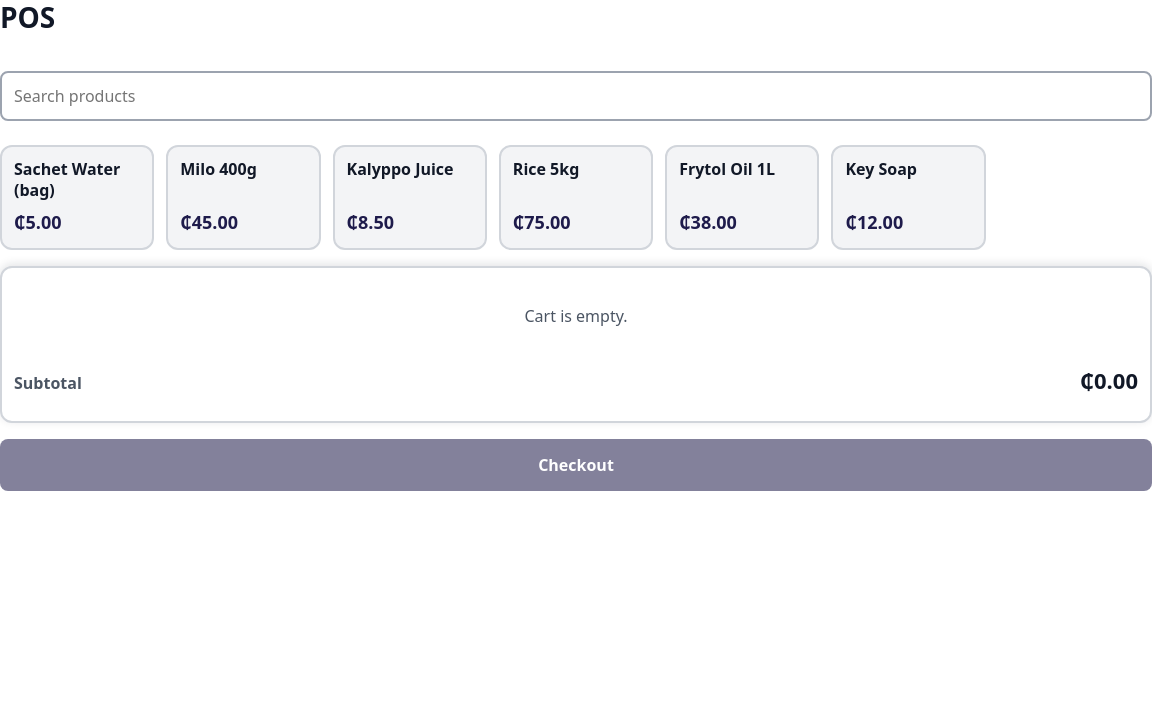
Scenario: PosScreen — double-tap protection (Adjoa QA #5) › firing two rapid confirms enqueues exactly once, not two duplicate sales
What coordinates should you click on to do the following:
click the button "Milo 400g ₵45.00"
I would click on:
 (243, 197)
Its box is [166,145,321,250].
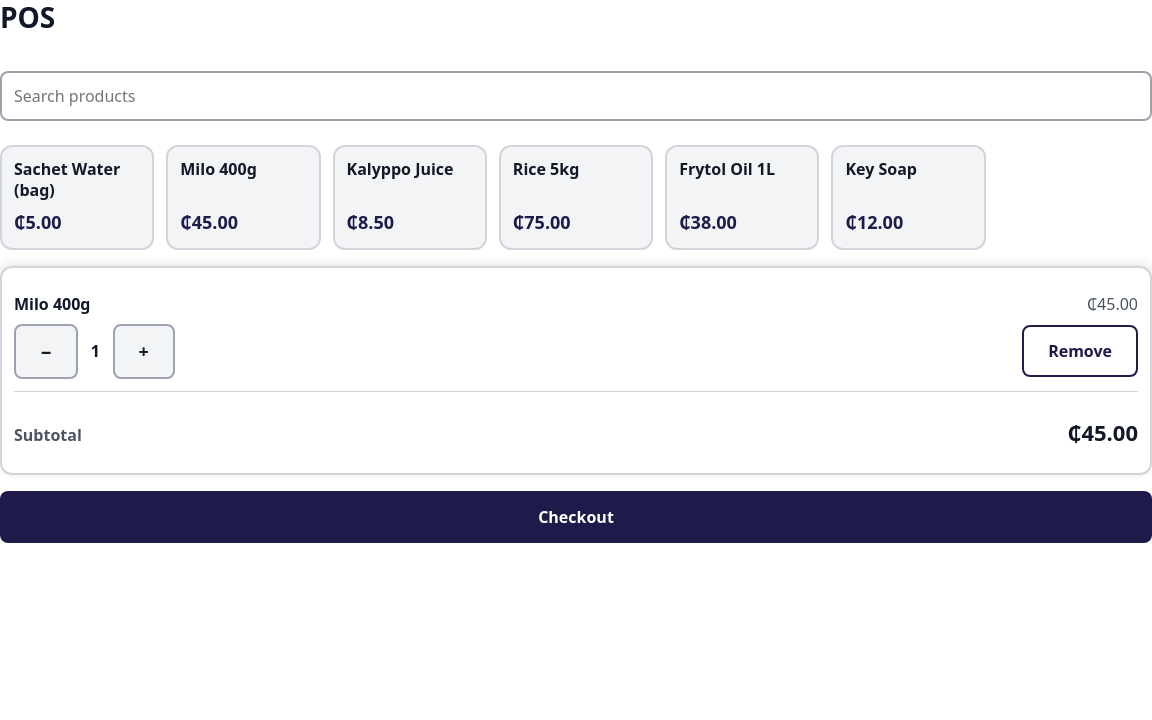
What coordinates should you click on to do the following:
click the button "Checkout"
I would click on:
 (576, 517)
Its box is [0,491,1151,543].
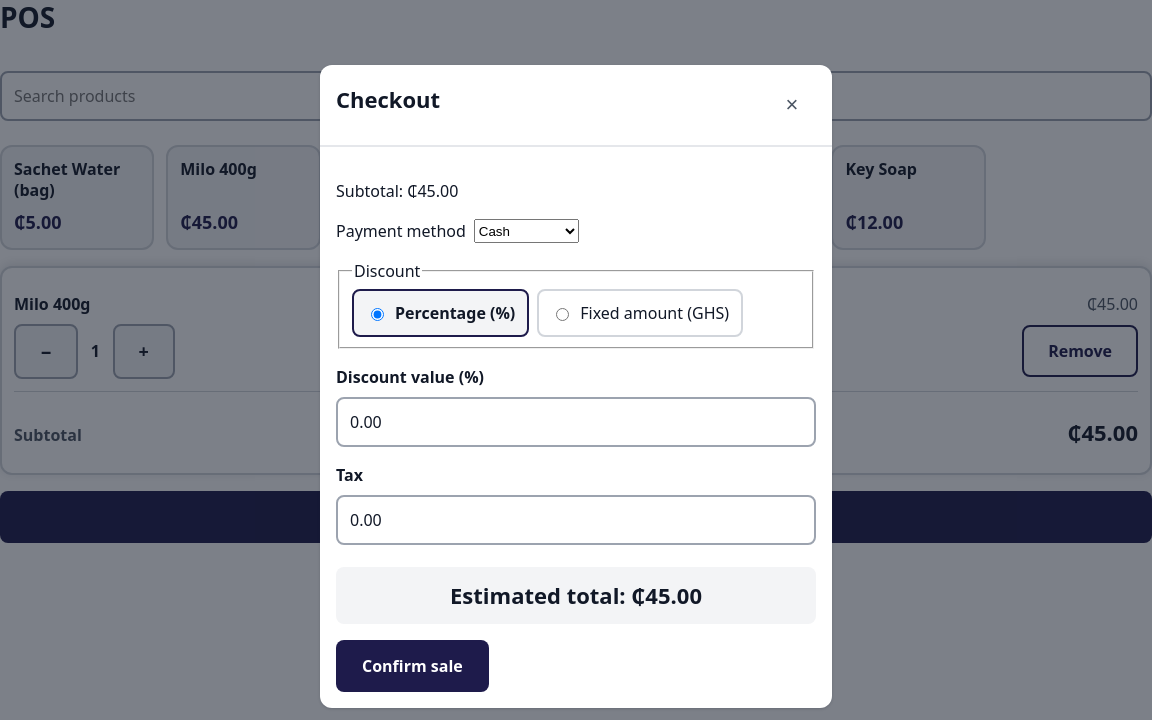
Two back-to-back taps, synchronously, with no await in between.
What coordinates should you click on to do the following:
click the button "Confirm sale"
I would click on:
 (412, 666)
Its box is [336,640,489,692].
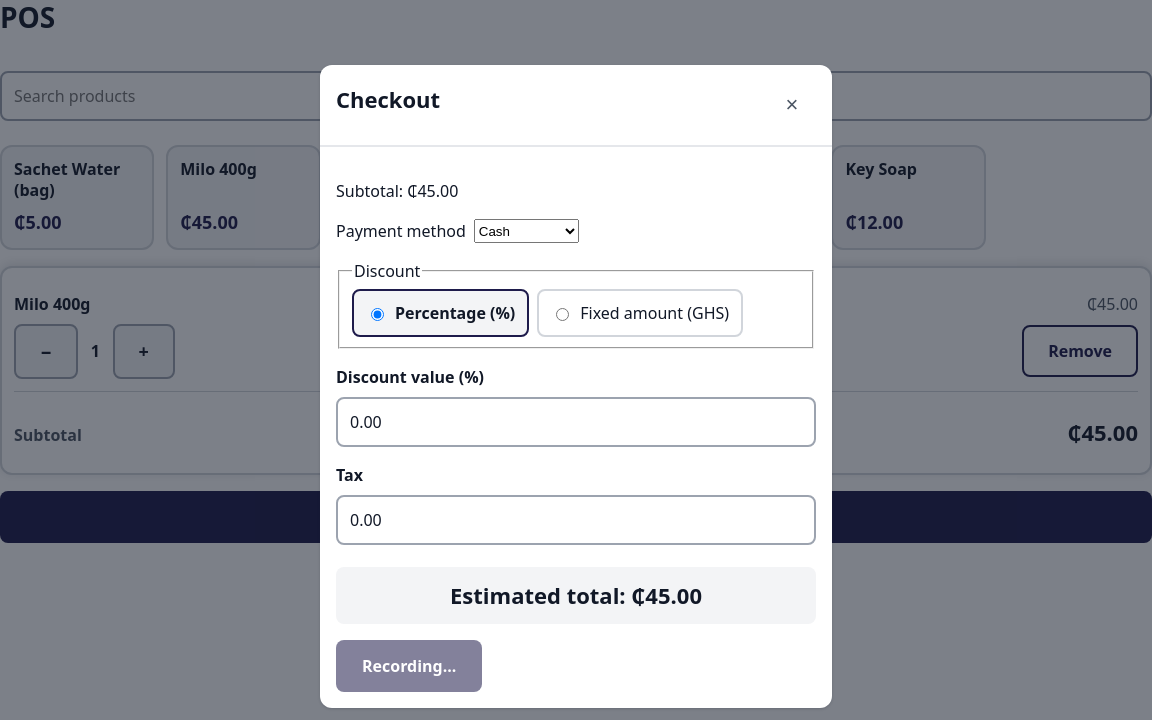
What coordinates should you click on to do the following:
click the button named "confirm sale"
I would click on:
 (409, 666)
Its box is [336,640,482,692].
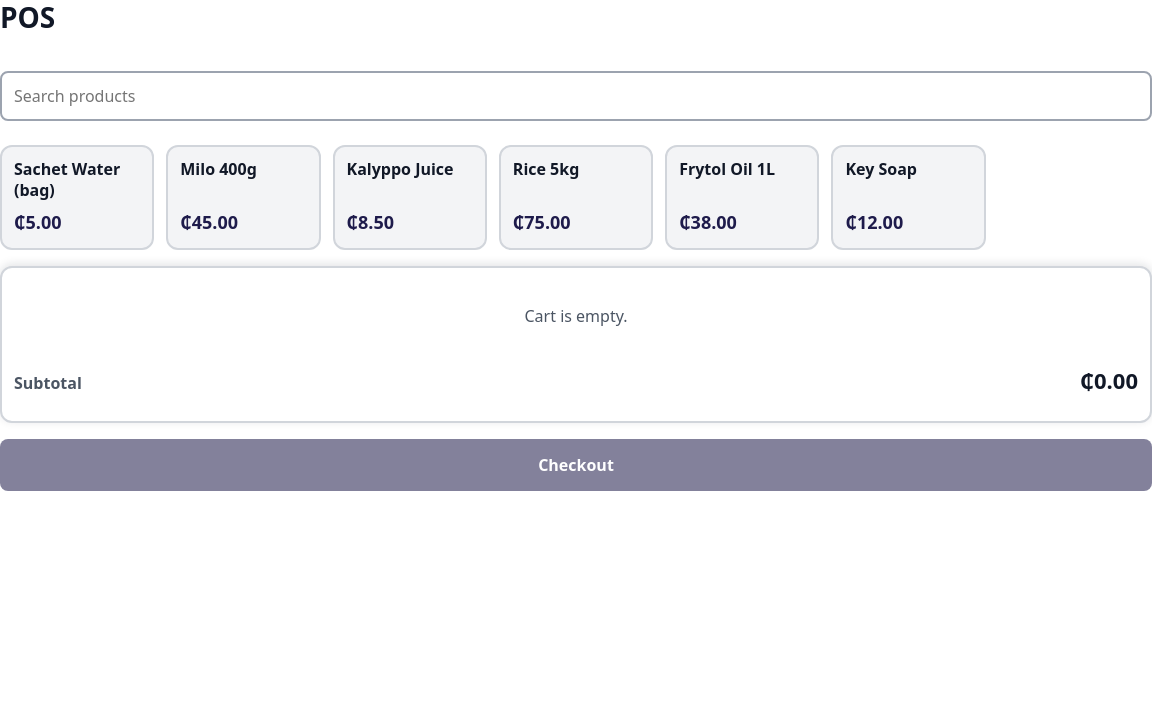
Expected: the text "Cart is empty." is shown, [524,305,628,327]
